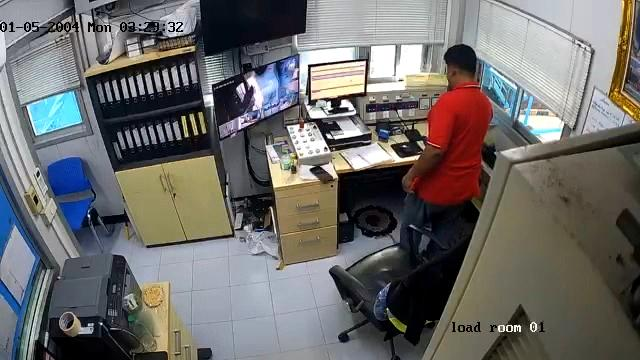Head: (443, 43, 479, 81)
People: (400, 41, 492, 232)
Phone: (309, 165, 333, 184)
